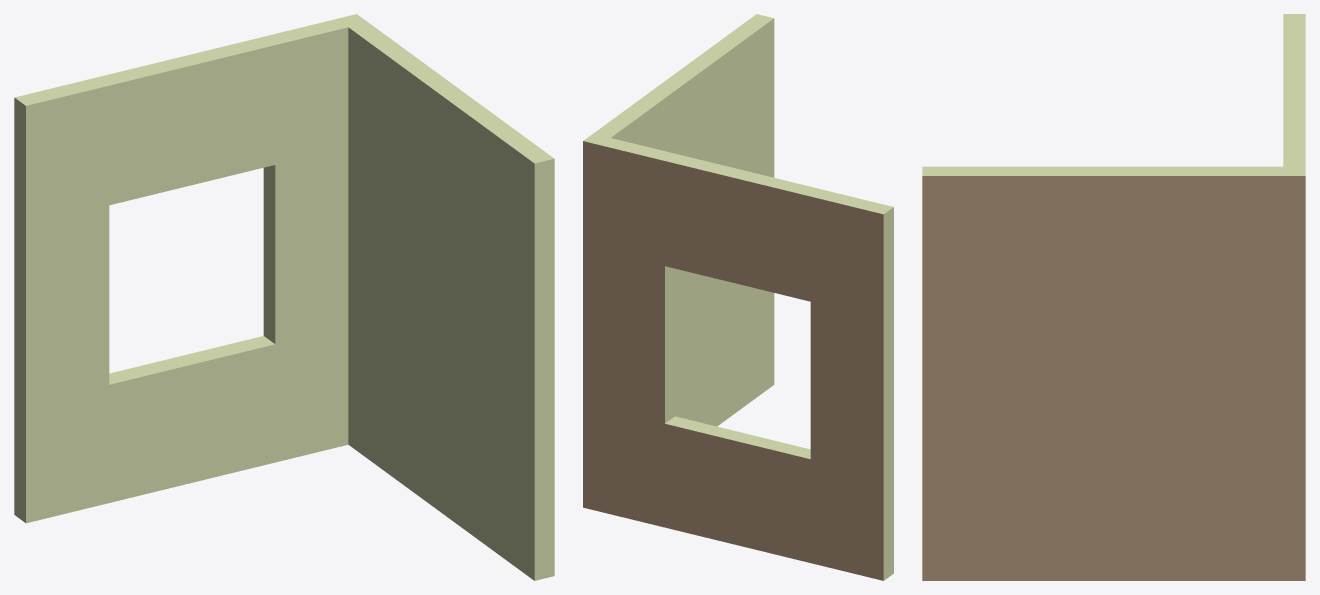
The model's file is Wall2_C5_10.fbx.
3 views of the same model, side by side, from view 1: azimuth 30°, elevation 25°; view 2: azimuth 150°, elevation 25°; view 3: azimuth 270°, elevation 25° (orthographic). The views are drawn at different scales.
Visible parts, largest first — view 1: Wall2_C5_10; view 2: Wall2_C5_10; view 3: Wall2_C5_10.
Part boxes in pixels (x1,y1,x2,y2): Wall2_C5_10: [14, 14, 554, 580]; Wall2_C5_10: [583, 14, 893, 580]; Wall2_C5_10: [922, 14, 1305, 580].
Size of the model in its own units: 258 by 300 by 258.
